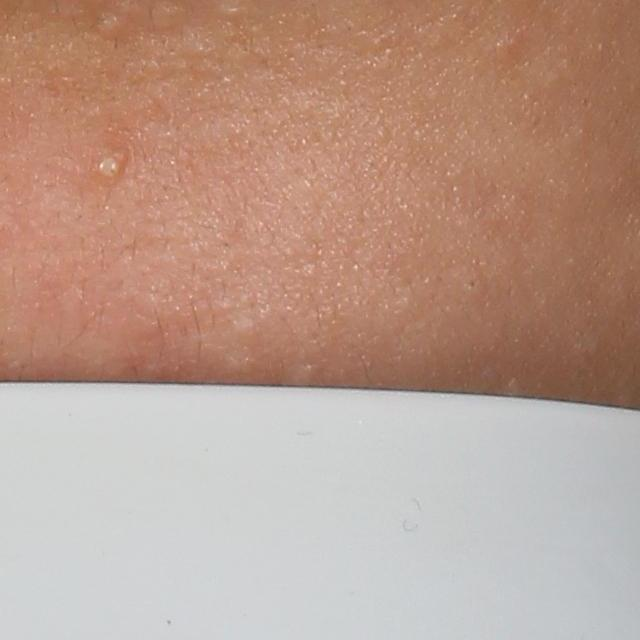comedo: (463, 275, 483, 293)
hypertrophic_scar: (220, 1, 250, 20)
